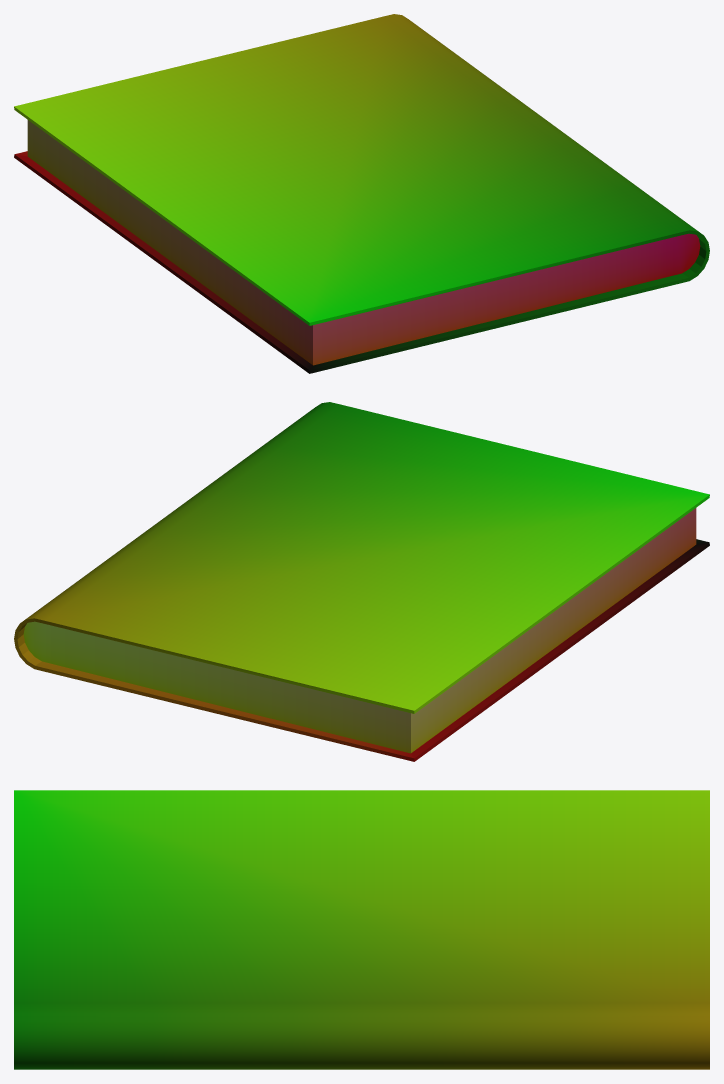
The model's file is book.FBX.
The picture shows the model from 3 angles, top to bottom: view 1: azimuth 30°, elevation 25°; view 2: azimuth 150°, elevation 25°; view 3: azimuth 270°, elevation 25°; orthographic projection. The views are drawn at different scales.
Visible parts, largest first — view 1: Box001; view 2: Box001; view 3: Box001.
Part boxes in pixels (x1=…): Box001: x1=14, y1=14, x2=709, y2=373; Box001: x1=14, y1=402, x2=709, y2=761; Box001: x1=14, y1=790, x2=709, y2=1069.
Bounding box in the file's own units: 23.16 × 2.83 × 29.61.
